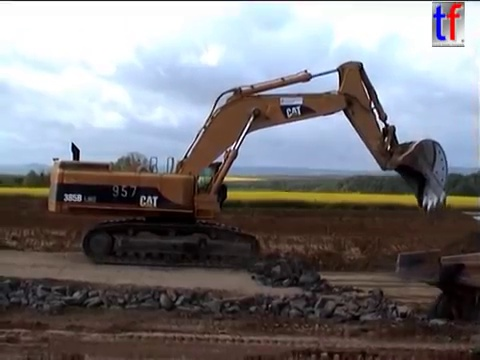excavator: (44, 58, 452, 271)
truck: (393, 246, 480, 343)
